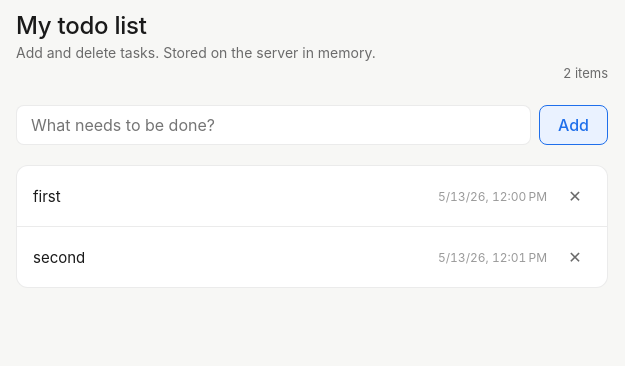
TodoListComponent › posts to the API and appends the new todo so the on-add order matches the server insertion order
Type "new task" into the field with placeholder "What needs to be done?". click: x=274, y=125
box: [16, 105, 531, 145]
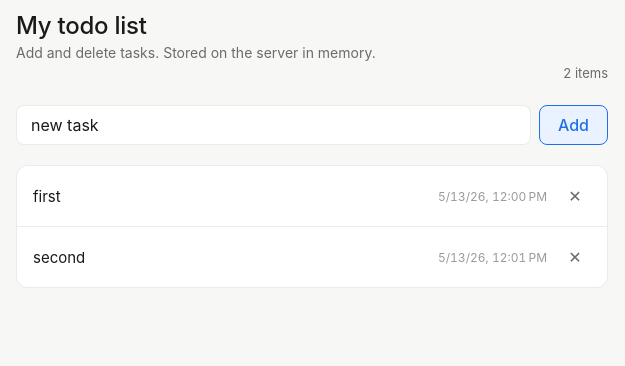
Submit the form, box [16, 105, 608, 145]
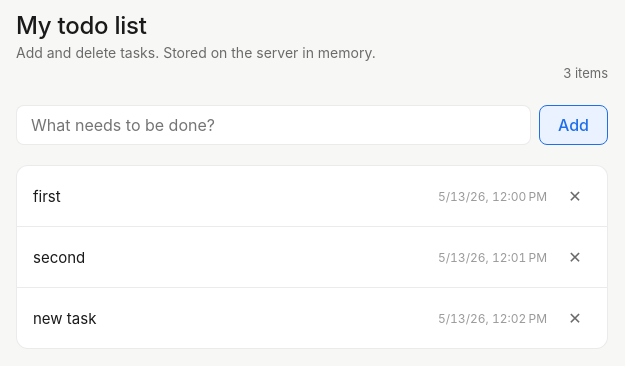
Expected: the list item with test id "todo-row" shows "first", [33, 186, 61, 206]
Expected: the number of list items with test id "todo-row" is 3, [17, 166, 607, 227]; [17, 227, 607, 288]; [33, 302, 591, 334]
Expected: the list item with test id "todo-row" shows "new task", [33, 308, 96, 328]
